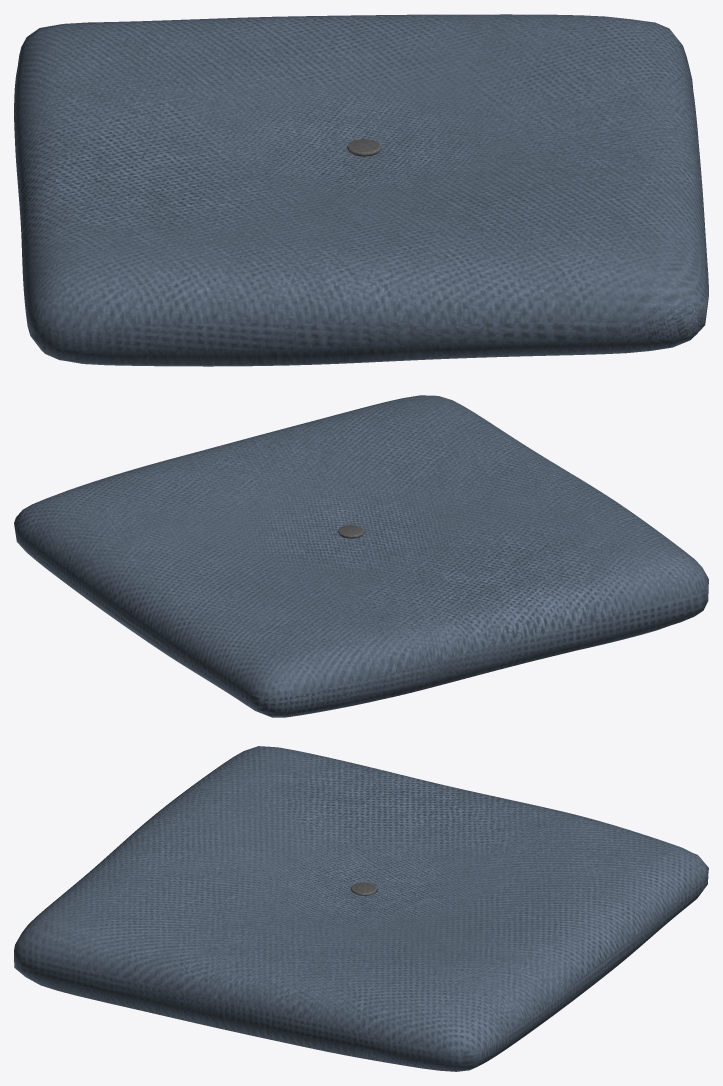
Rendered from pillowChair.gltf.
The picture shows the model from 3 angles, top to bottom: view 1: azimuth 30°, elevation 25°; view 2: azimuth 150°, elevation 25°; view 3: azimuth 270°, elevation 25°; orthographic projection. The views are drawn at different scales.
Visible parts, largest first — view 1: pillowChair; view 2: pillowChair; view 3: pillowChair.
Boxes of the visible parts, bbox=[...] form: pillowChair: bbox=[14, 14, 708, 366]; pillowChair: bbox=[14, 395, 708, 717]; pillowChair: bbox=[14, 746, 708, 1071].
Bounding box in the file's own units: 0.4417 × 0.0541 × 0.4434.
1 material, 1 textured.
